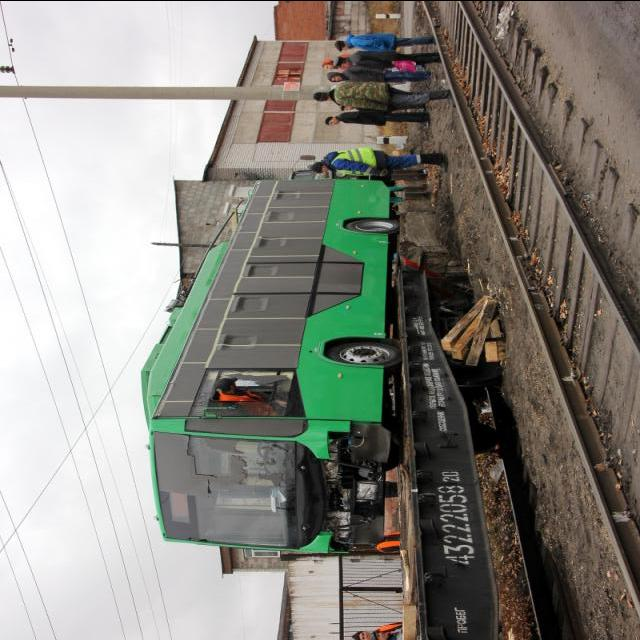wagon: (434, 483, 479, 565)
